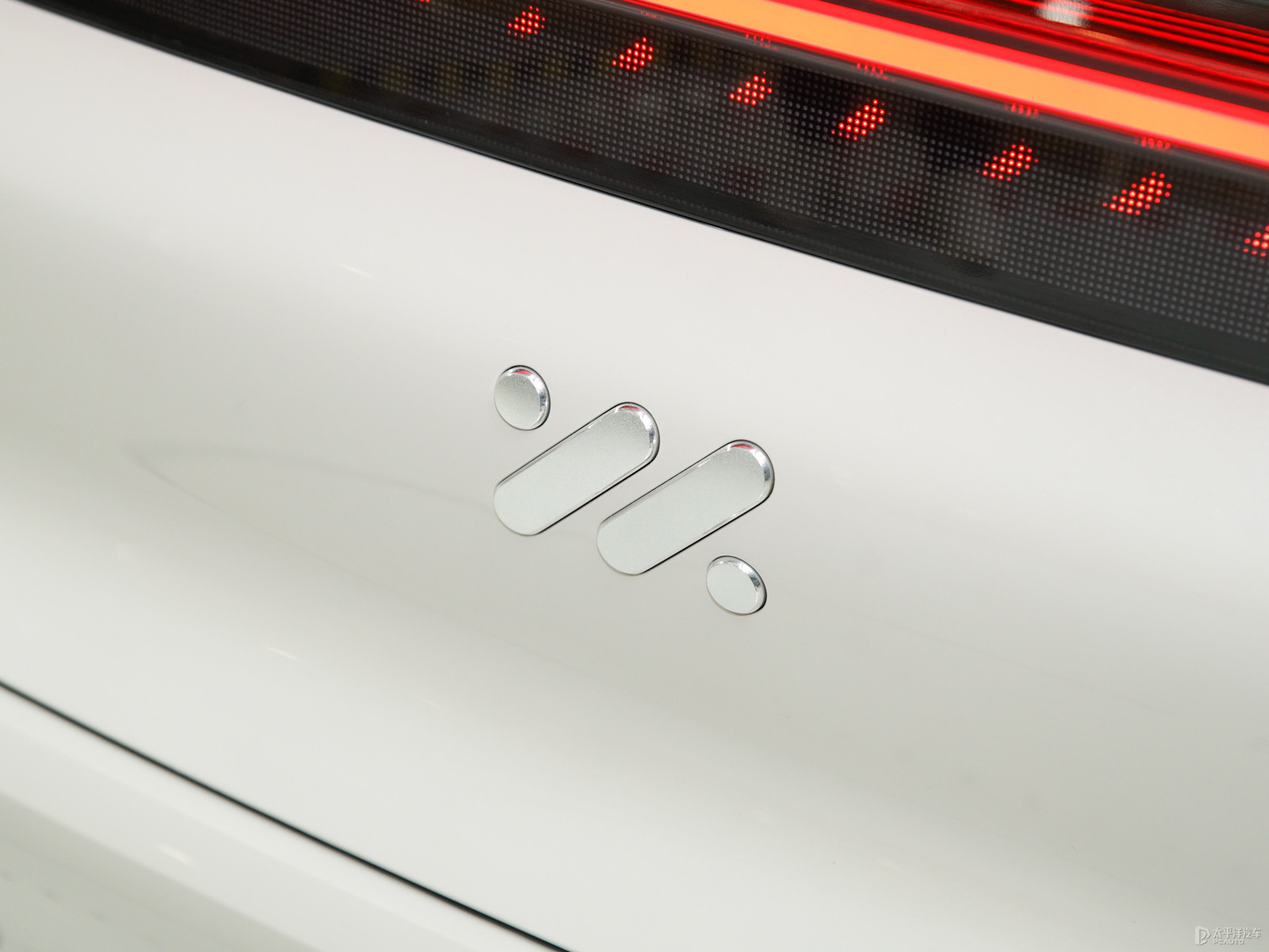IM: (495, 367, 773, 612)
